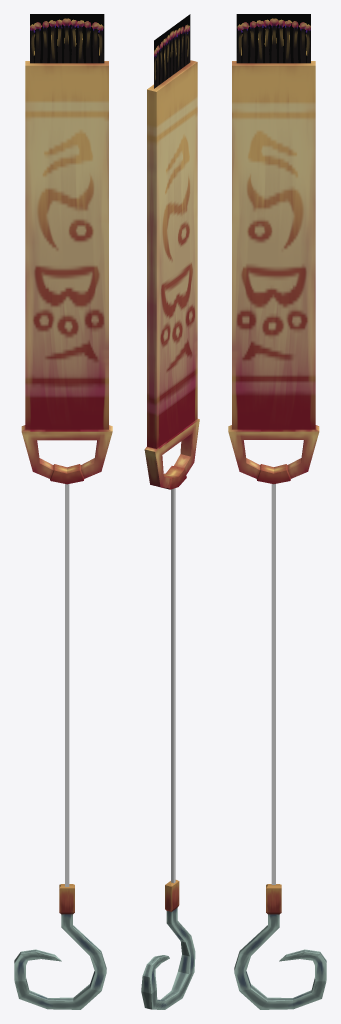
The model's file is banner v2.fbx.
3 views of the same model, side by side, from view 1: azimuth 90°, elevation 25°; view 2: azimuth 150°, elevation 25°; view 3: azimuth 270°, elevation 25° (orthographic).
Visible parts, largest first — view 1: banner, strings, hook, string; view 2: banner, hook, string, strings; view 3: banner, strings, hook, string.
Boxes of the visible parts, left/top/right/bottom form: banner: left=21, top=61, right=112, bottom=484; strings: left=30, top=14, right=104, bottom=63; hook: left=14, top=884, right=106, bottom=1009; string: left=65, top=484, right=69, bottom=886; banner: left=144, top=60, right=199, bottom=489; hook: left=141, top=880, right=195, bottom=1009; string: left=171, top=488, right=175, bottom=883; strings: left=154, top=14, right=190, bottom=88; banner: left=228, top=61, right=319, bottom=484; strings: left=236, top=14, right=310, bottom=63; hook: left=234, top=884, right=326, bottom=1009; string: left=271, top=484, right=275, bottom=884.
Bounding box in the file's own units: 36.46 × 2622 × 235.
